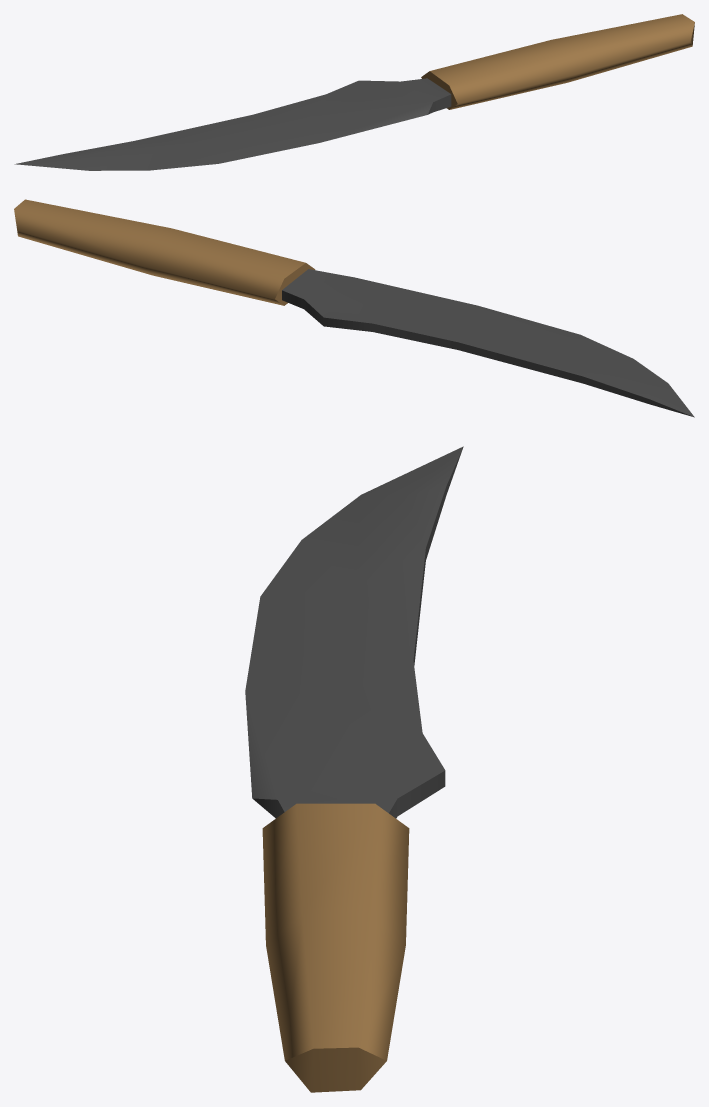
File: faca_caca.fbx
3 renders of one model, top to bottom at view 1: azimuth 30°, elevation 25°; view 2: azimuth 150°, elevation 25°; view 3: azimuth 270°, elevation 25°, orthographic. The views are drawn at different scales.
Visible parts, largest first — view 1: faca_de_caca; view 2: faca_de_caca; view 3: faca_de_caca.
Part boxes in pixels (box(x1,y1,x2,y2)): faca_de_caca: box(14, 14, 694, 170); faca_de_caca: box(14, 199, 694, 417); faca_de_caca: box(245, 446, 463, 1092).
Bounding box in the file's own units: 378 × 17.18 × 55.6.
